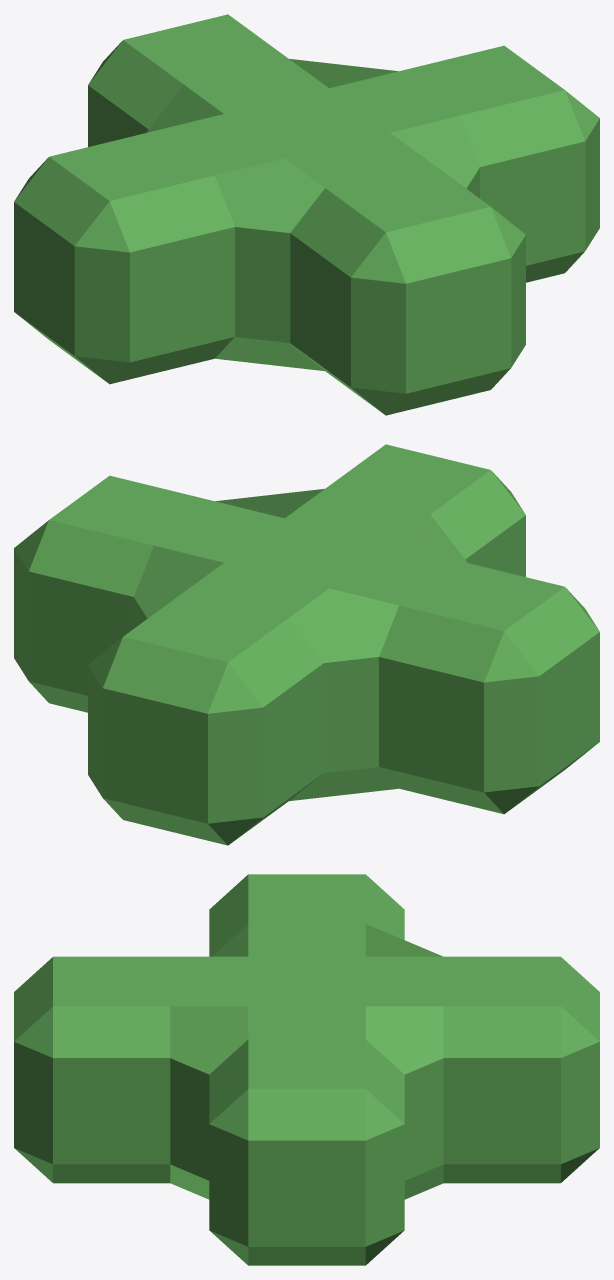
File: powerup_health_up.fbx
The picture shows the model from 3 angles, top to bottom: view 1: azimuth 30°, elevation 25°; view 2: azimuth 150°, elevation 25°; view 3: azimuth 270°, elevation 25°; orthographic projection. The views are drawn at different scales.
Parts seen in each view (by area): view 1: powerup_health_up.001; view 2: powerup_health_up.001; view 3: powerup_health_up.001.
Part boxes in pixels (x1,y1,x2,y2): powerup_health_up.001: (14,14,599,415); powerup_health_up.001: (14,444,599,845); powerup_health_up.001: (14,874,599,1265).
Bounding box in the file's own units: 300 × 100 × 300.
